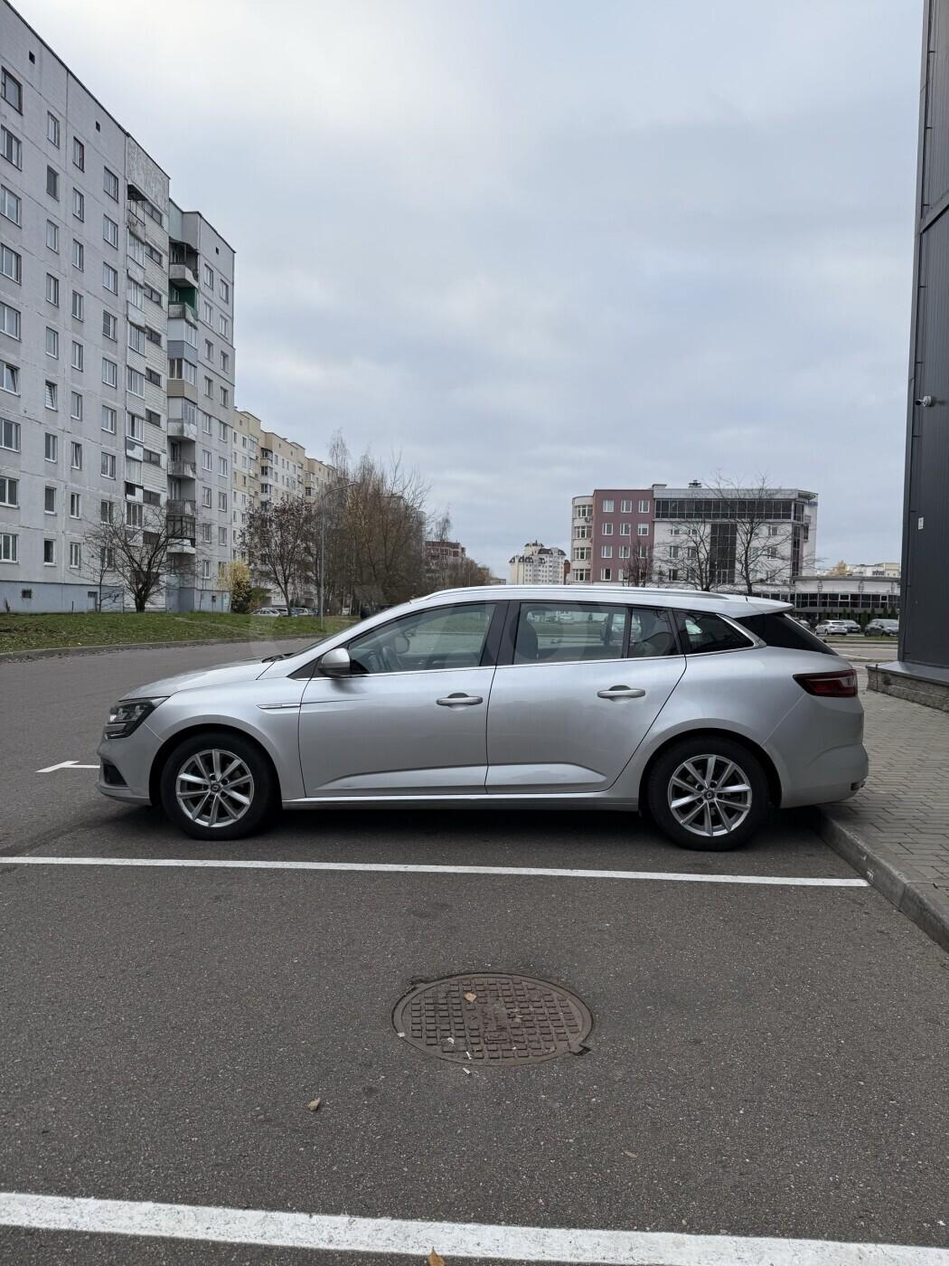Megane_2016-2020: (90, 582, 882, 879)
